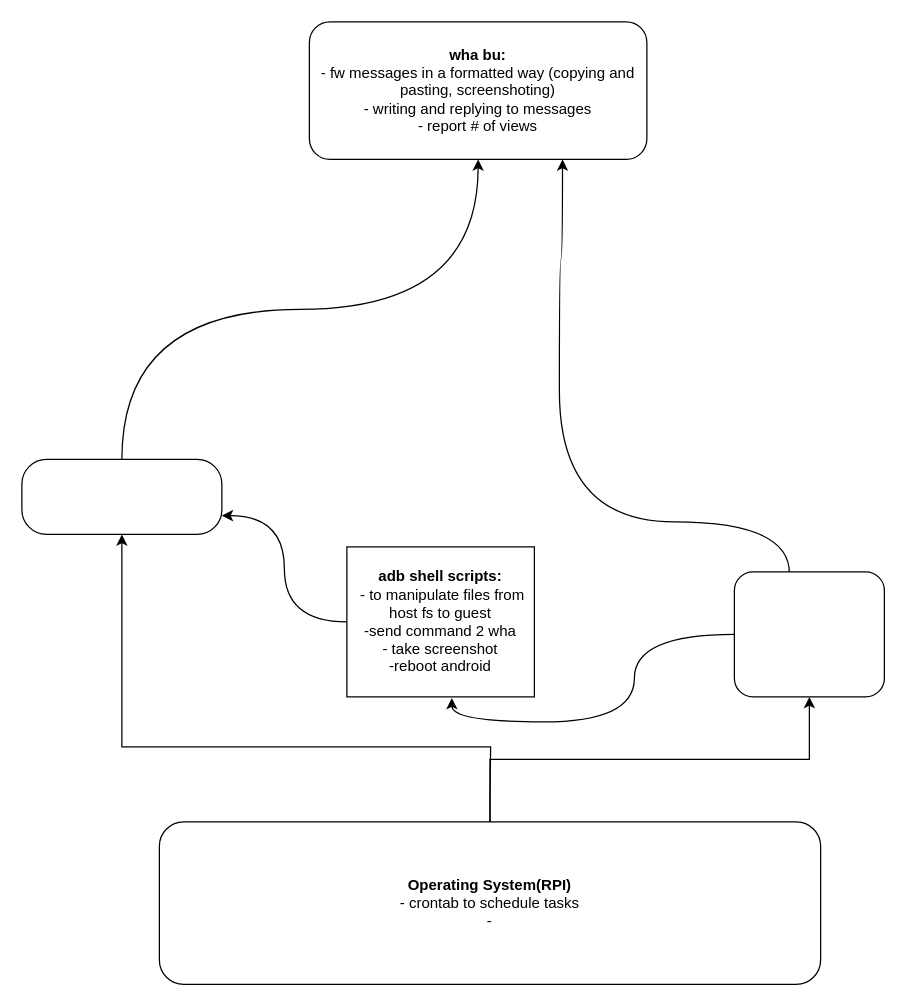
Some shapes in this 906 by 1006 pixel diagram are drawn without their labels. Each missing label, with the centre of its shape:
android phone: (121,496)
python: - main controller -Wha API: (808,634)
